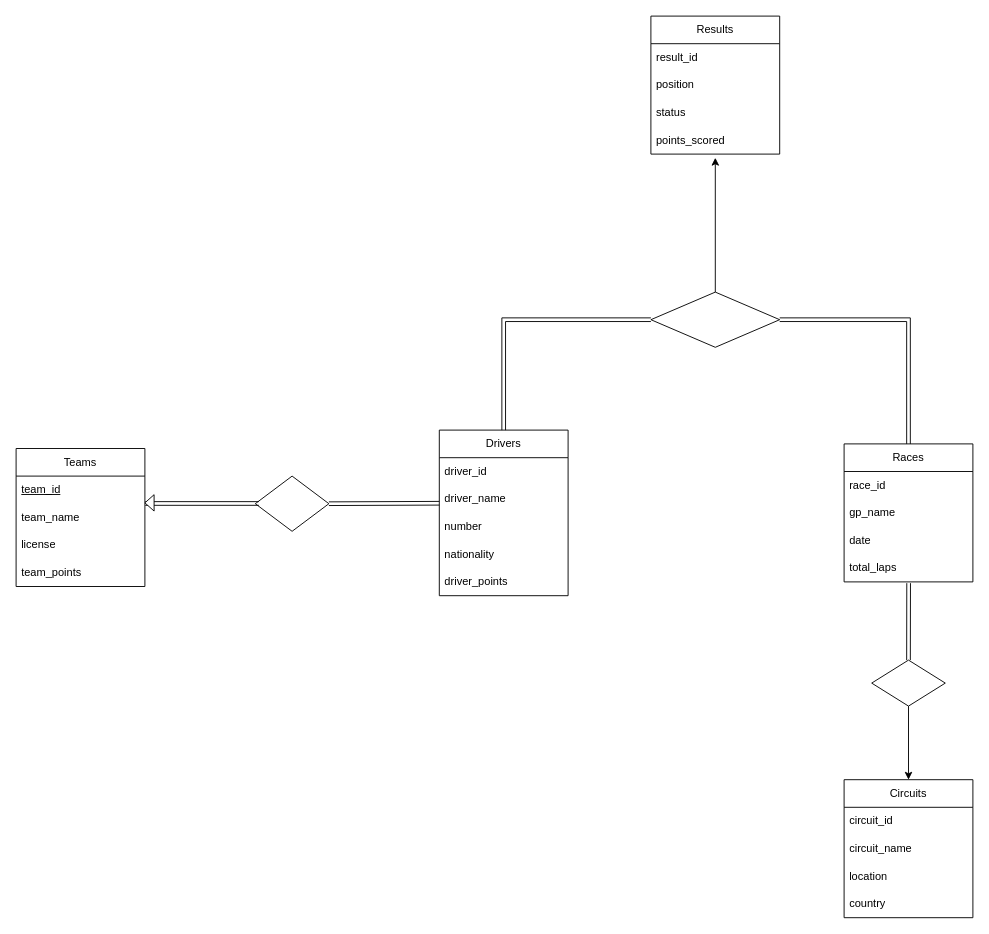
Image size: 989x934. Some labels were removed from this diagram. Here are the shapes that lost their labels. From the top down, the centre of each, then its label:
At (x=715, y=319): "participates_in".
At (x=291, y=503): "belongs_to".
At (x=908, y=682): "held_at".
